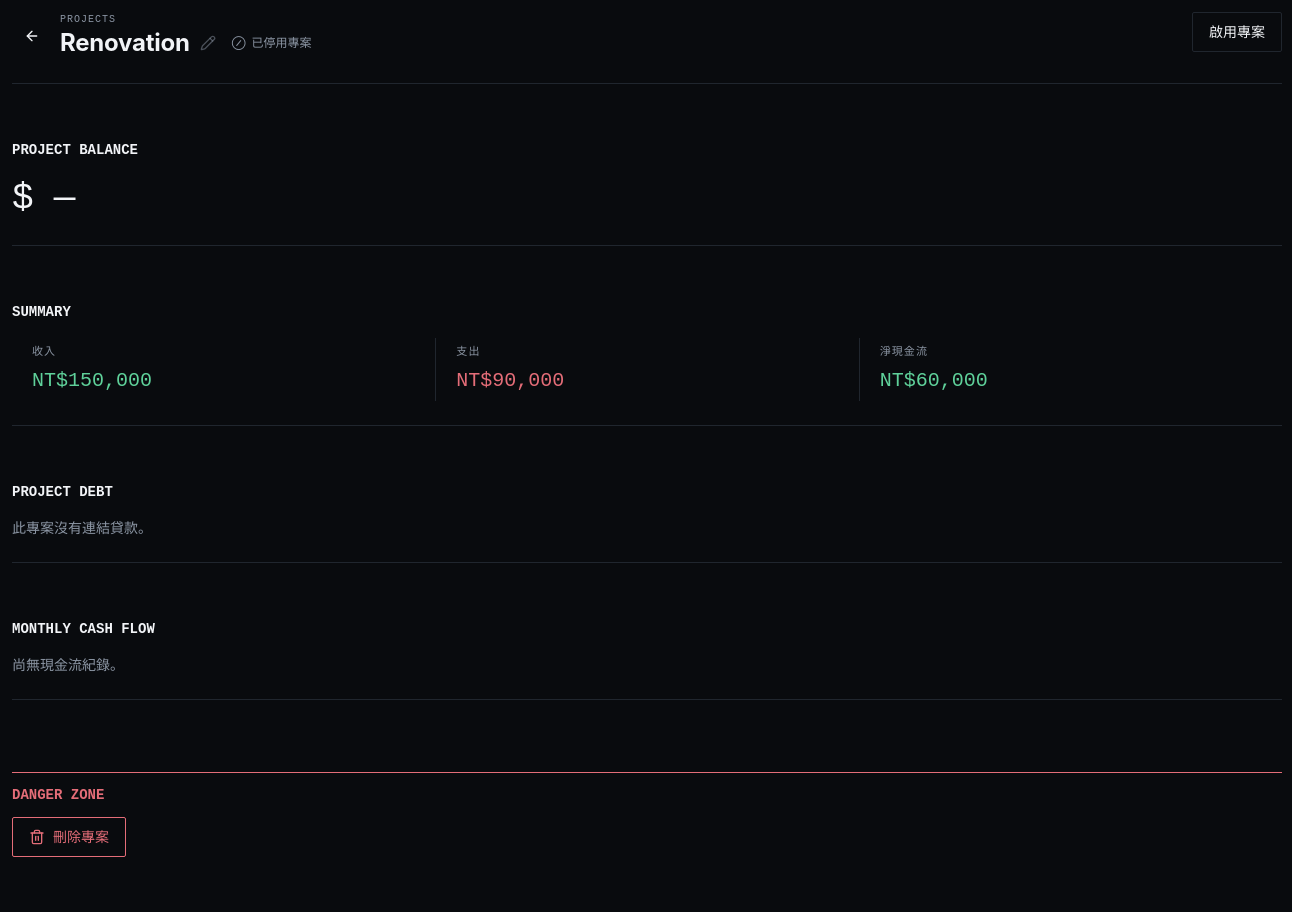
Test: ProjectDetailPage lifecycle actions › activates an inactive project via the existing update command
Click the button "啟用專案". click: click(1237, 32)
box: [1192,12,1282,52]
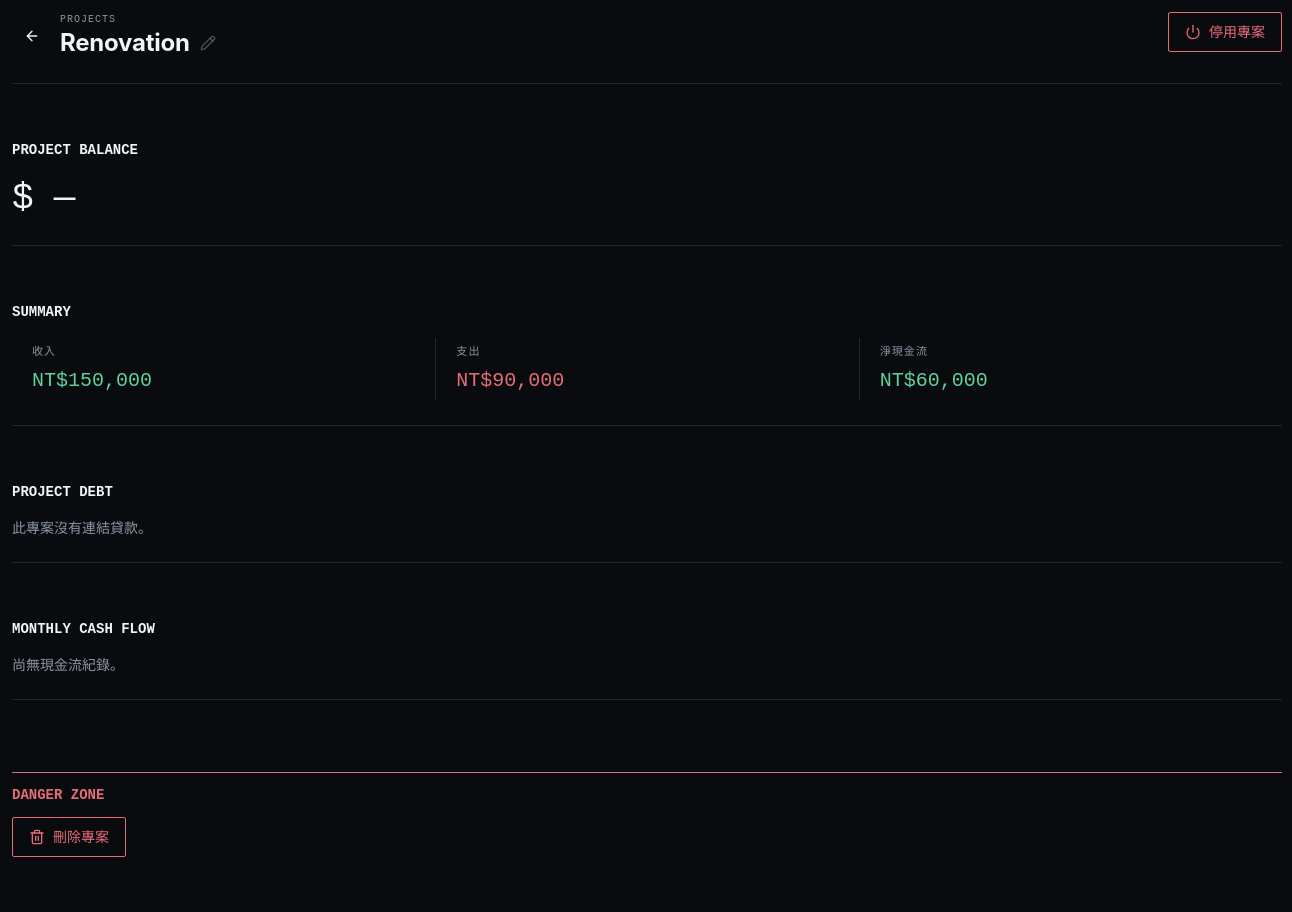
Check: the button "停用專案" is shown, box [1168,12,1282,52]
